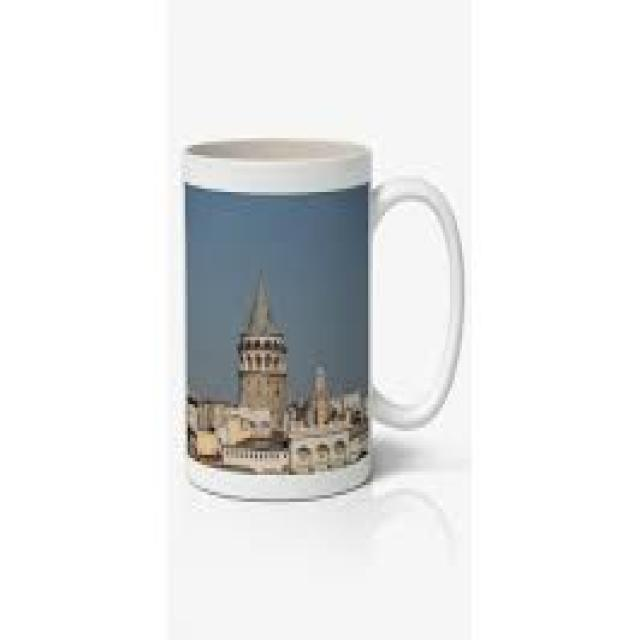taza: (176, 136, 464, 501)
